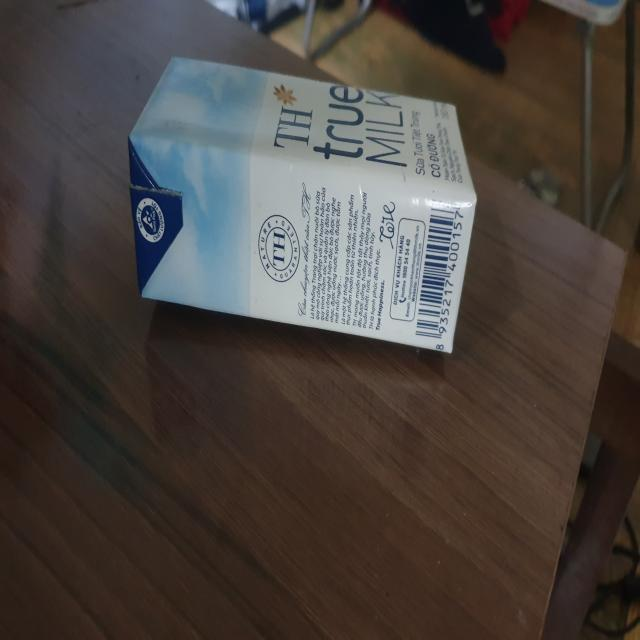TH: (122, 47, 483, 365)
